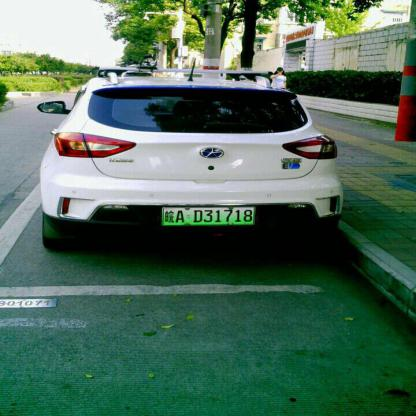lp: (162, 206, 256, 226)
